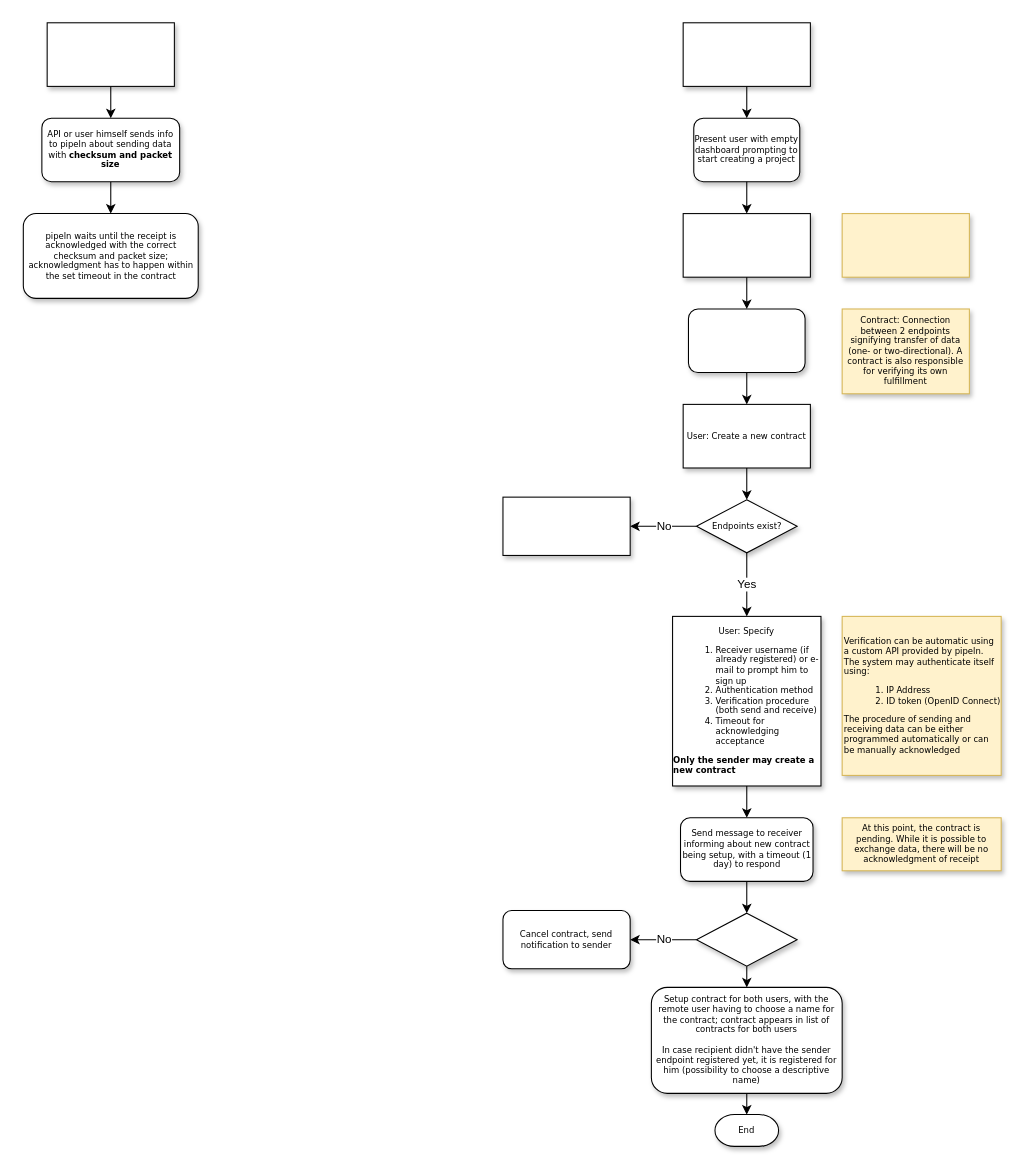
The diagram is 1026 pixels wide and 1172 high, and some of its shapes have lost their labels. The shapes that lost their labels are listed below. From the top down, each one's centre as x and y in pixels, then its label:
At (x=111, y=55): "User: Sends data".
At (x=747, y=55): "User: Register using own account or Microsoft or Google account".
At (x=747, y=246): "User: Create a new project".
At (x=906, y=246): "Project: A collection of contracts that may be rendered as a data flow chart".
At (x=747, y=342): "Present user with project pane prompting to create some contracts".
At (x=567, y=527): "Create new endpoints from create contract pane".
At (x=747, y=941): "Receiver accepts?".
